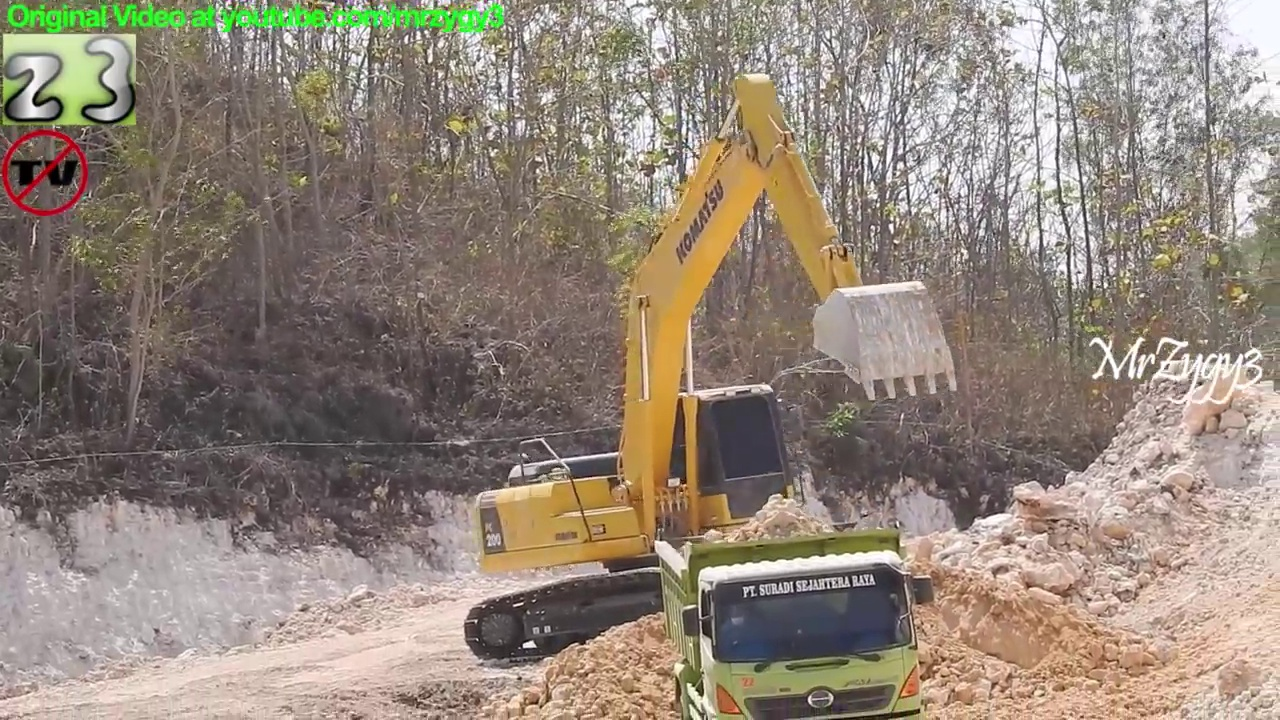excavator: (457, 69, 965, 672)
truck: (648, 516, 937, 720)
